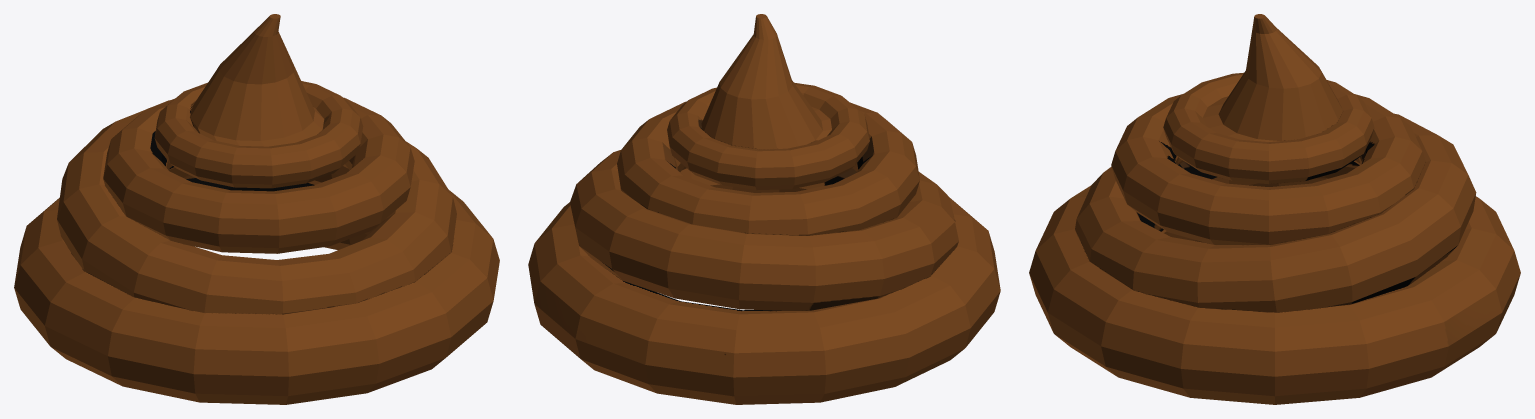
File: poop.glb
3 views of the same model, side by side, from view 1: azimuth 30°, elevation 25°; view 2: azimuth 150°, elevation 25°; view 3: azimuth 270°, elevation 25° (orthographic). The views are drawn at different scales.
Visible parts, largest first — view 1: Torus.001; view 2: Torus.001; view 3: Torus.001.
Part boxes in pixels (x1,y1,x2,y2): Torus.001: [14, 14, 499, 404]; Torus.001: [528, 14, 1000, 404]; Torus.001: [1029, 14, 1520, 404].
Bounding box in the file's own units: 0.9543 × 0.6556 × 0.9543.
1 material, 1 textured.
